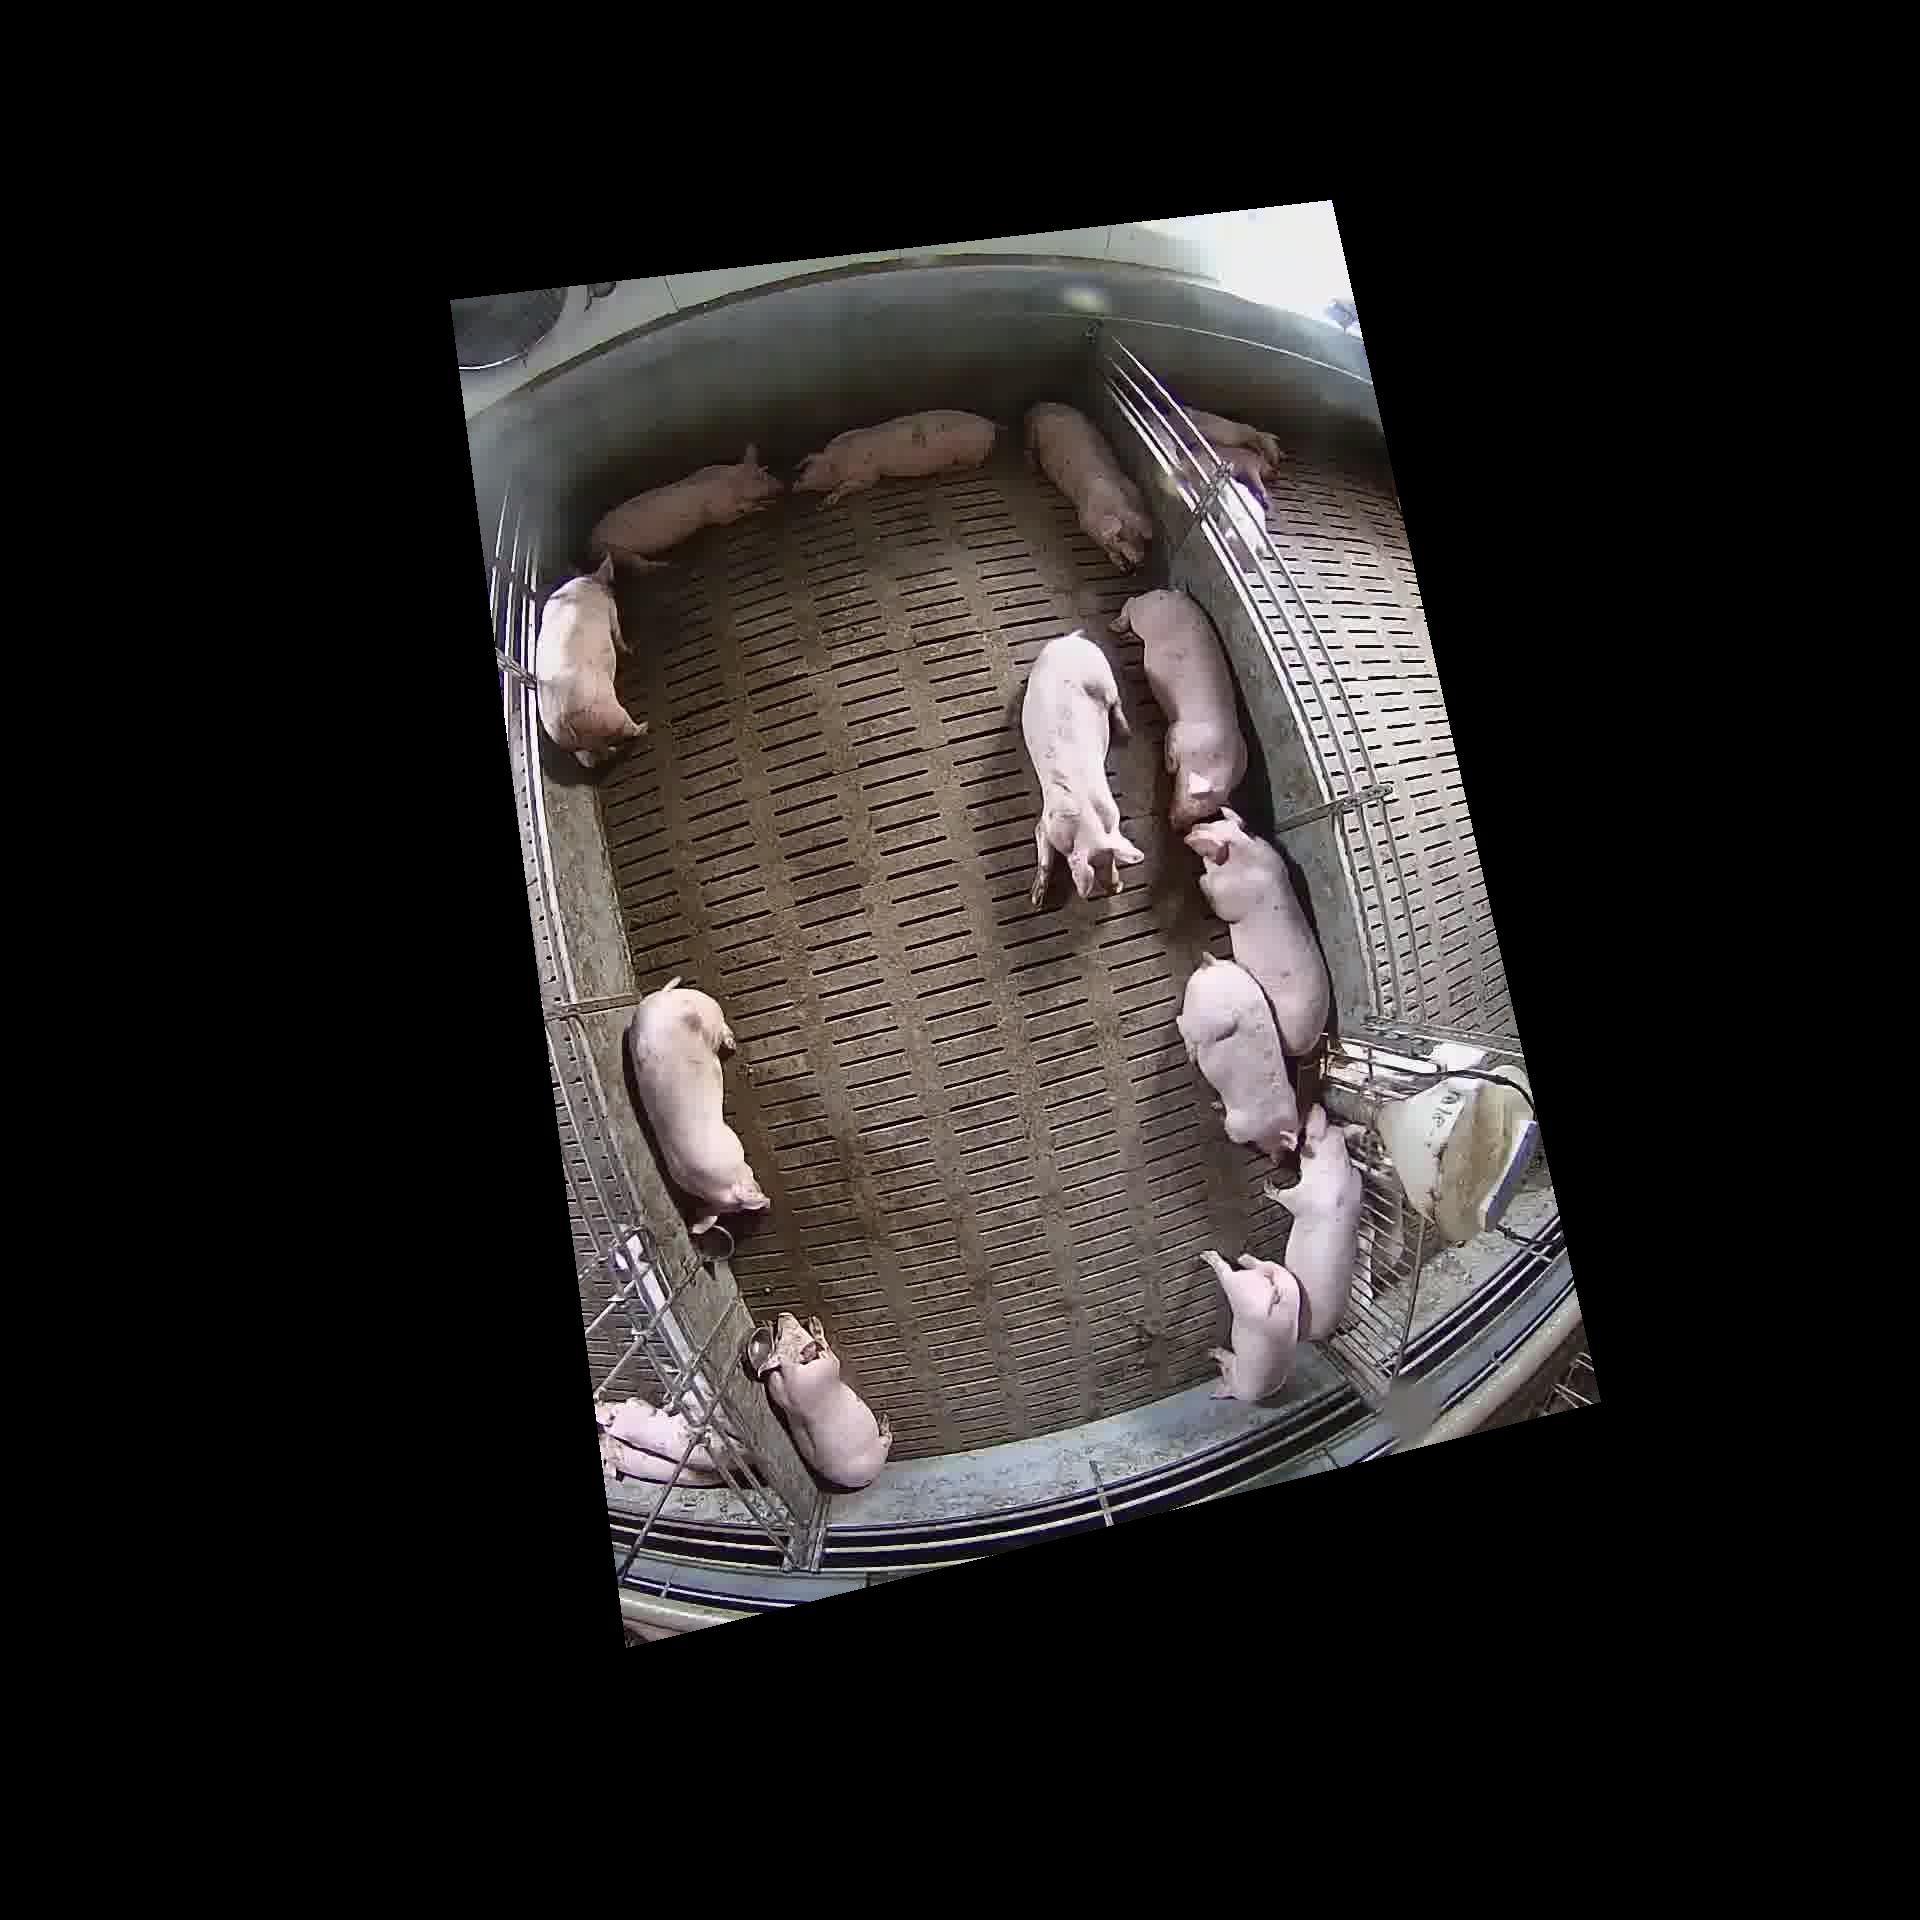pig: (1111, 587, 1245, 826), (1022, 629, 1139, 900), (636, 985, 765, 1233), (1199, 816, 1329, 1053), (1176, 956, 1298, 1159), (758, 1312, 886, 1486), (1271, 1104, 1364, 1342), (540, 564, 642, 765), (600, 455, 777, 561), (1032, 408, 1148, 564), (793, 411, 993, 501), (1203, 1248, 1303, 1400)
